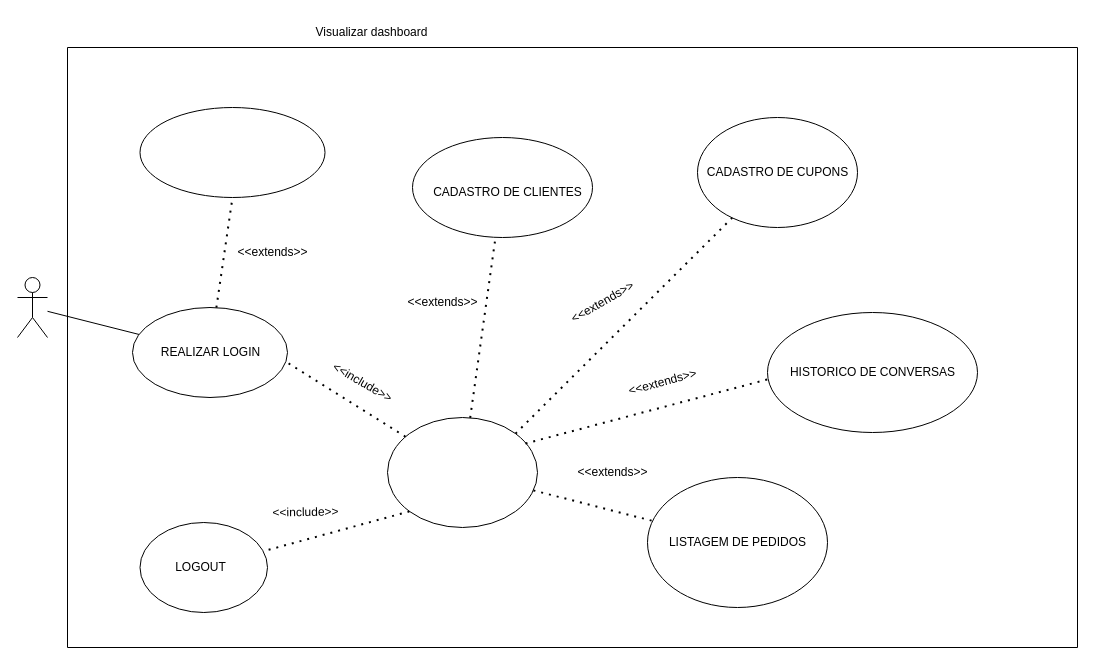
The diagram is 1095 pixels wide and 665 high, and some of its shapes have lost their labels. Each missing label, with the centre of its shape:
"Actor" belongs at pixel 32 307.
"Dashboard" belongs at pixel 462 472.
"REALIZAR CADASTRO" belongs at pixel 232 152.
